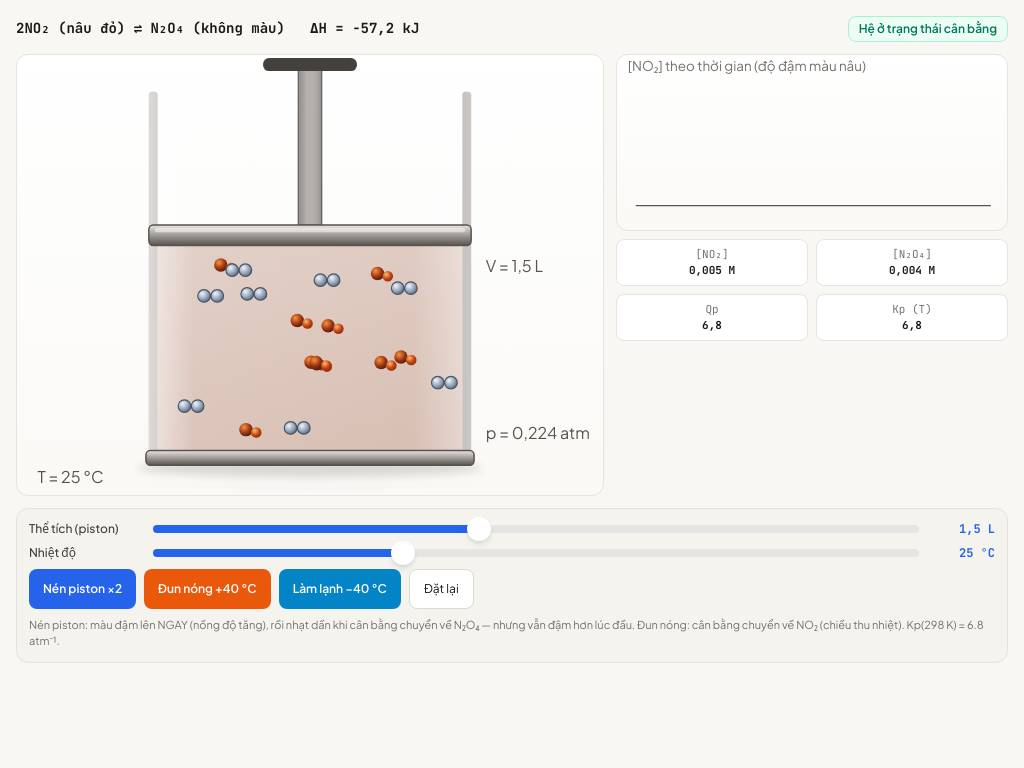
Test case: LeChatelierEngine › nén piston: màu đậm lên ngay rồi chuyển dịch thuận
The width and height of the screenshot is (1024, 768).
Step 1. Click the button with test id "lc-compress" → (83, 588), box [29, 568, 136, 608]
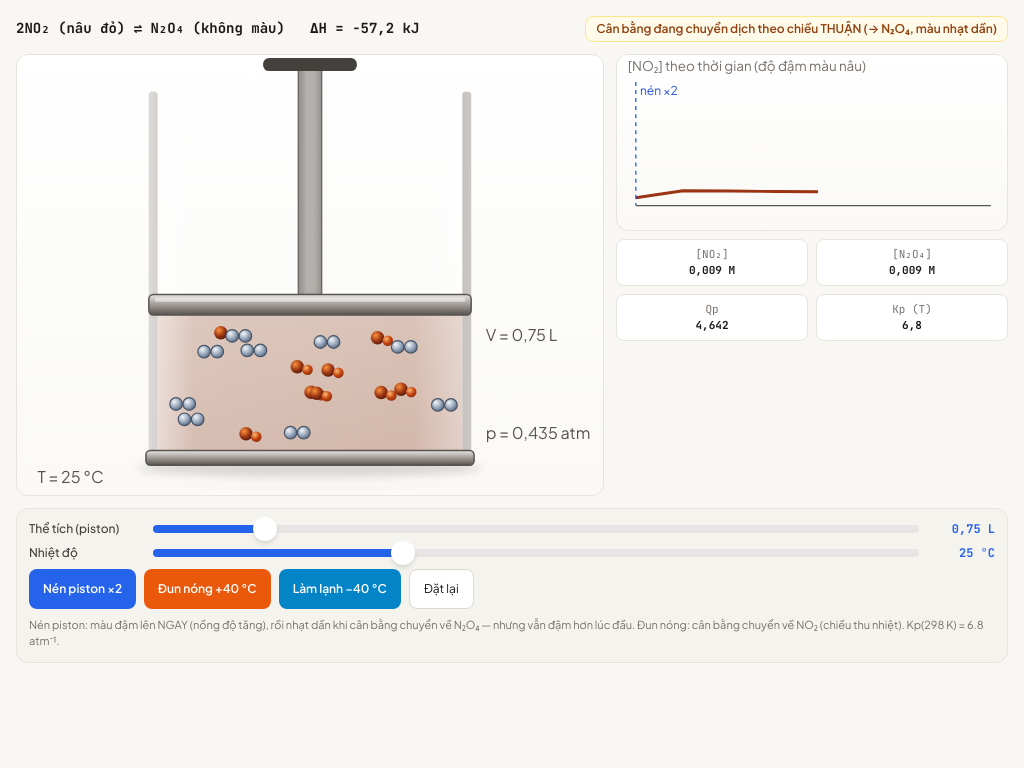
Now the text with test id "lc-shift" shows "THUẬN", box [596, 21, 997, 36]
